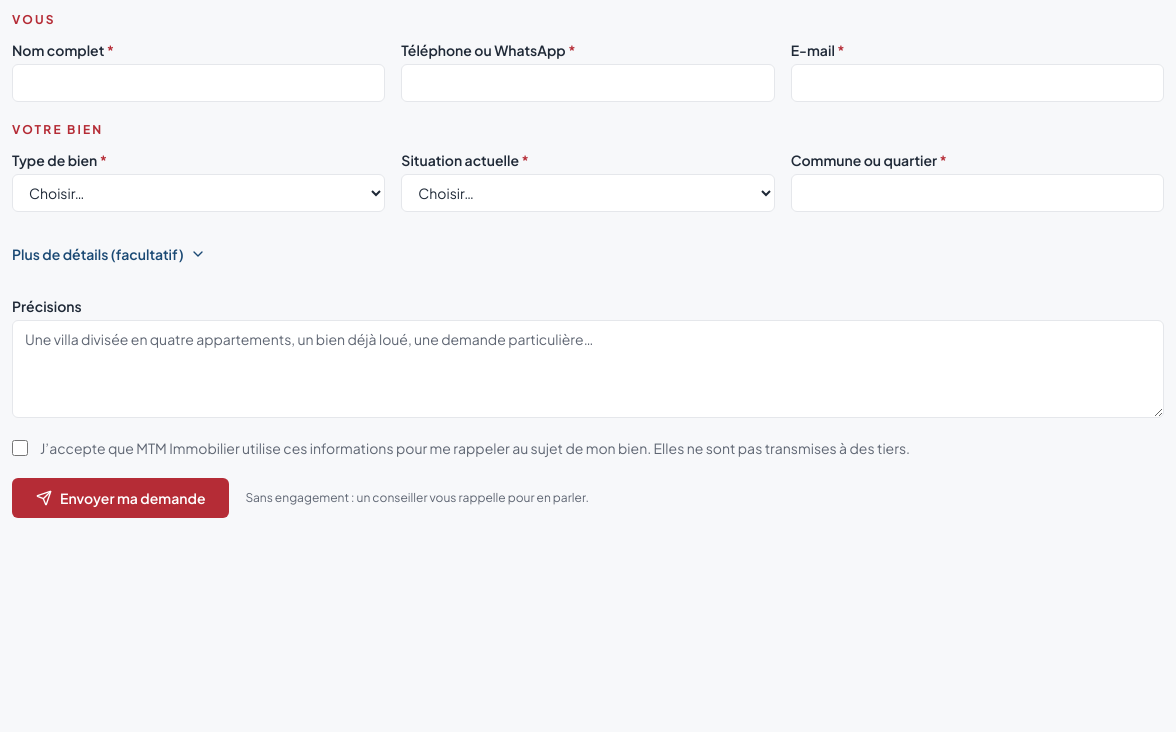
Scenario: FormulaireConfierBien › efface le message d’erreur d’un champ dès qu’il est corrigé
Click the button "Envoyer ma demande" at (121, 498), box [12,478,230,518]
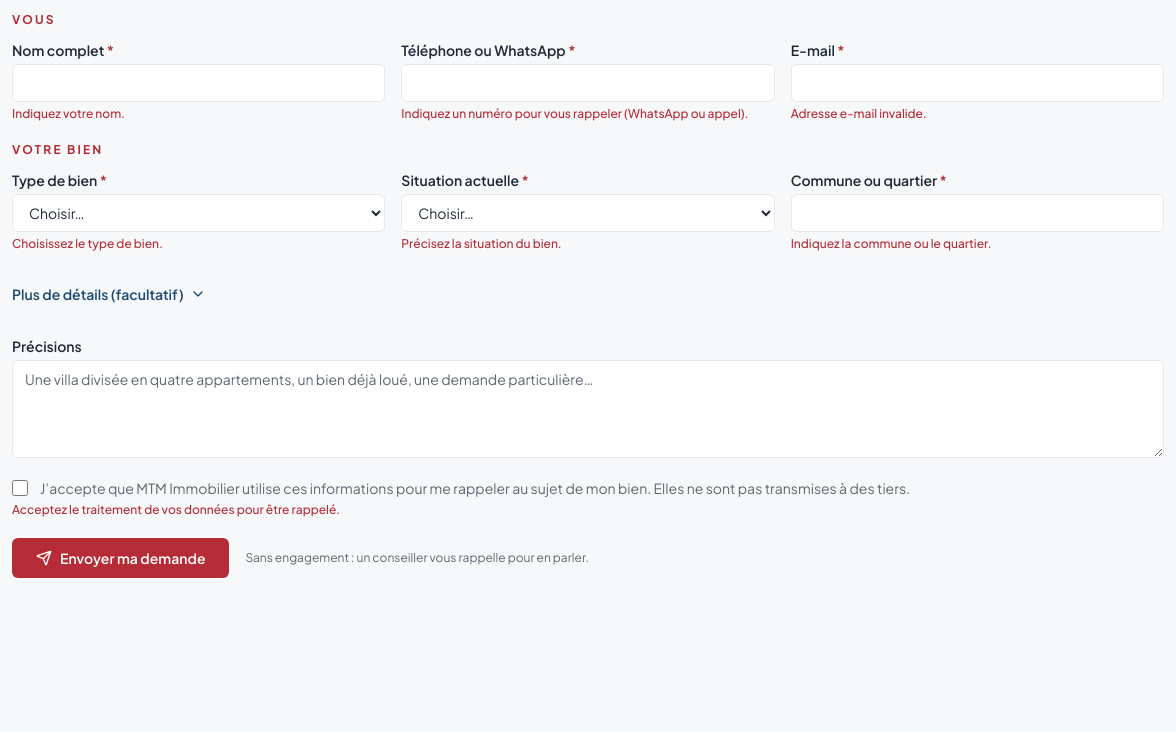
Now the text "Indiquez votre nom." is shown, box [12,106,125,121]
Type "Awa Diop" into the field labelled "Nom complet *" at (199, 83), box [12,64,385,102]
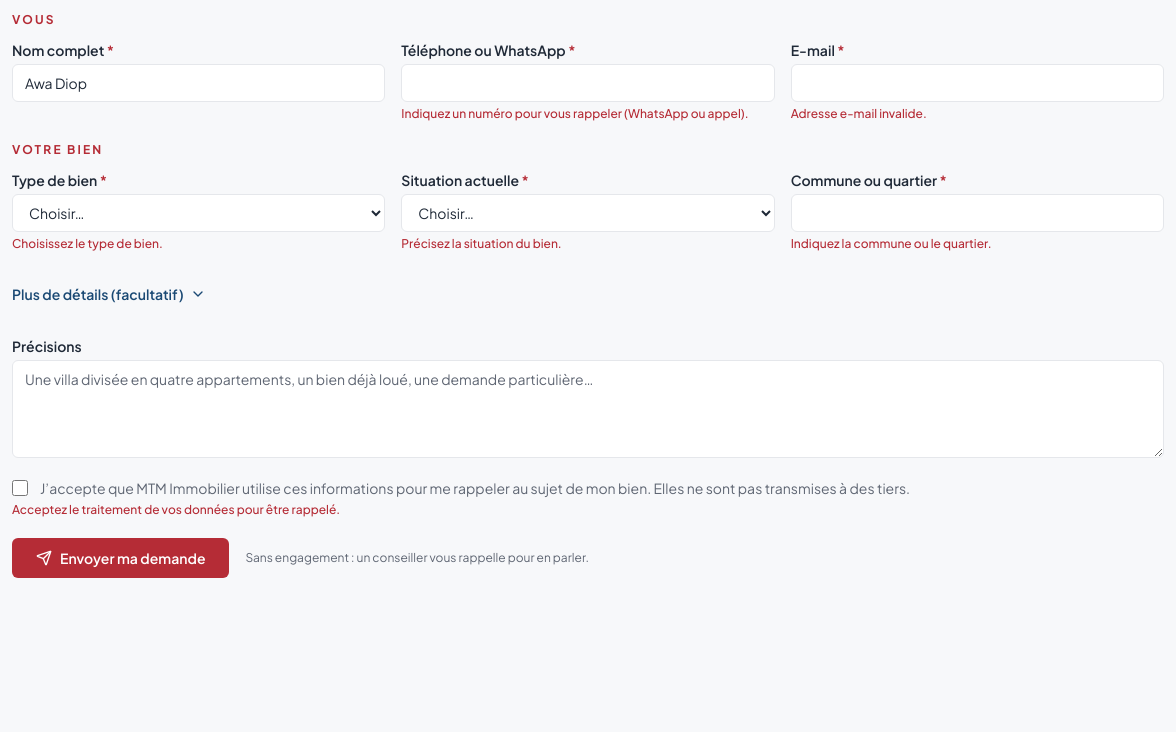
Now the text "Choisissez le type de bien." is shown, box [12,236,163,251]
Now the text "Indiquez votre nom." is gone
